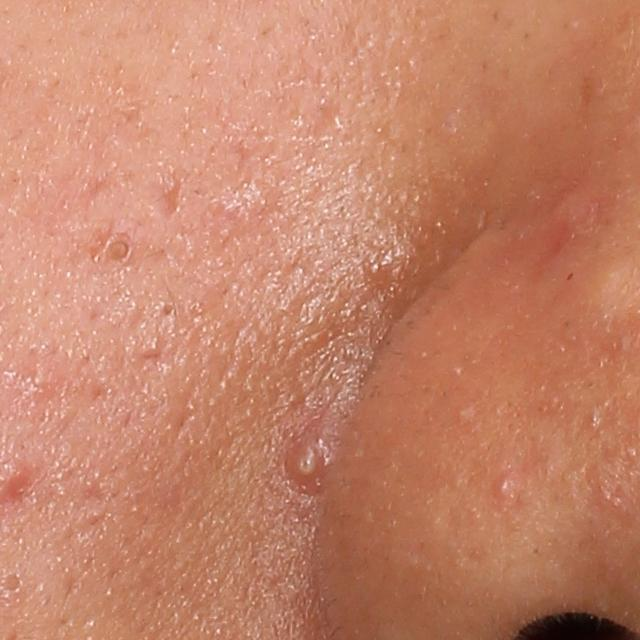atrophic_scar: (159, 167, 279, 301), (145, 171, 188, 228)
comedo: (101, 237, 143, 266), (156, 296, 180, 320)
hypertrophic_scar: (443, 182, 605, 292)
pustule: (291, 437, 324, 485)
